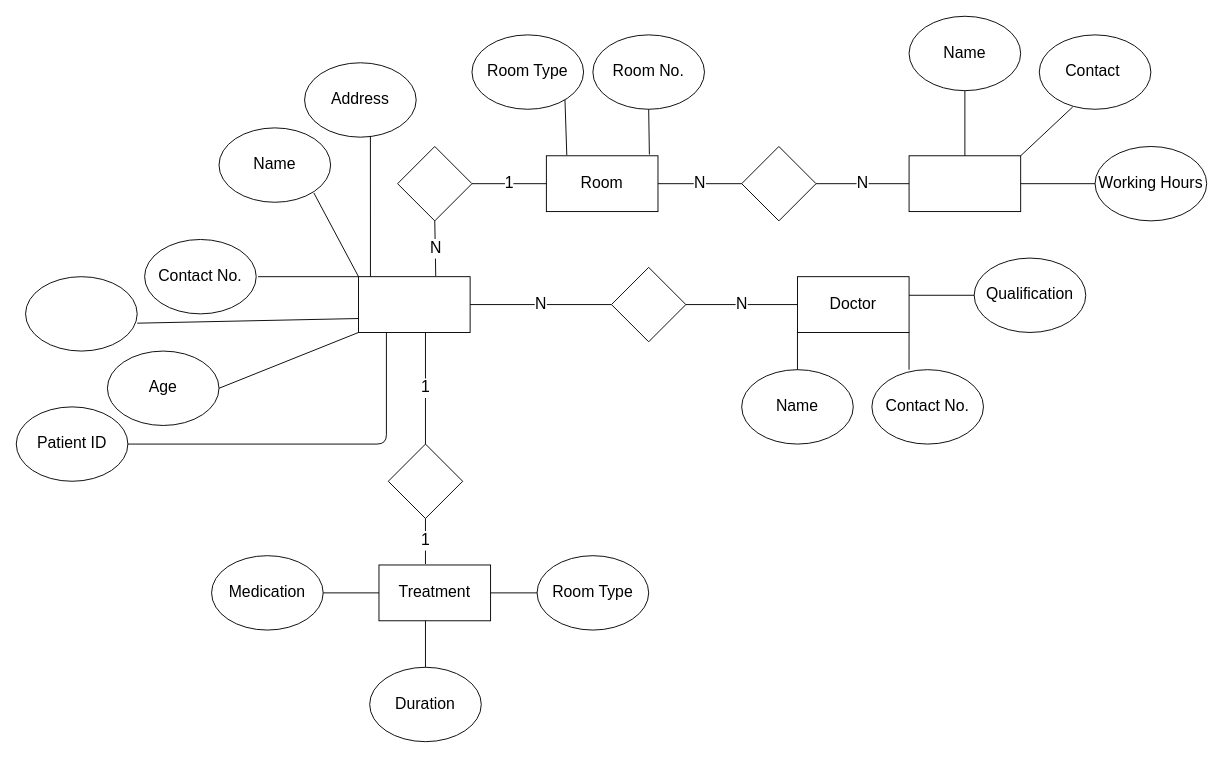
The diagram is 1223 pixels wide and 758 high, and some of its shapes have lost their labels. Each missing label, with the centre of its shape:
"Assigned" goes at (434,183).
"Attends" goes at (648,304).
"Bill" goes at (425,480).
"Governs" goes at (778,183).
"Nurse" goes at (964,183).
"Patient" goes at (414,304).
"Sex" goes at (81,313).
